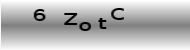6: (33, 8, 46, 21)
C: (110, 7, 125, 21)
Z: (62, 12, 77, 25)
o: (79, 21, 91, 32)
t: (97, 16, 107, 30)
